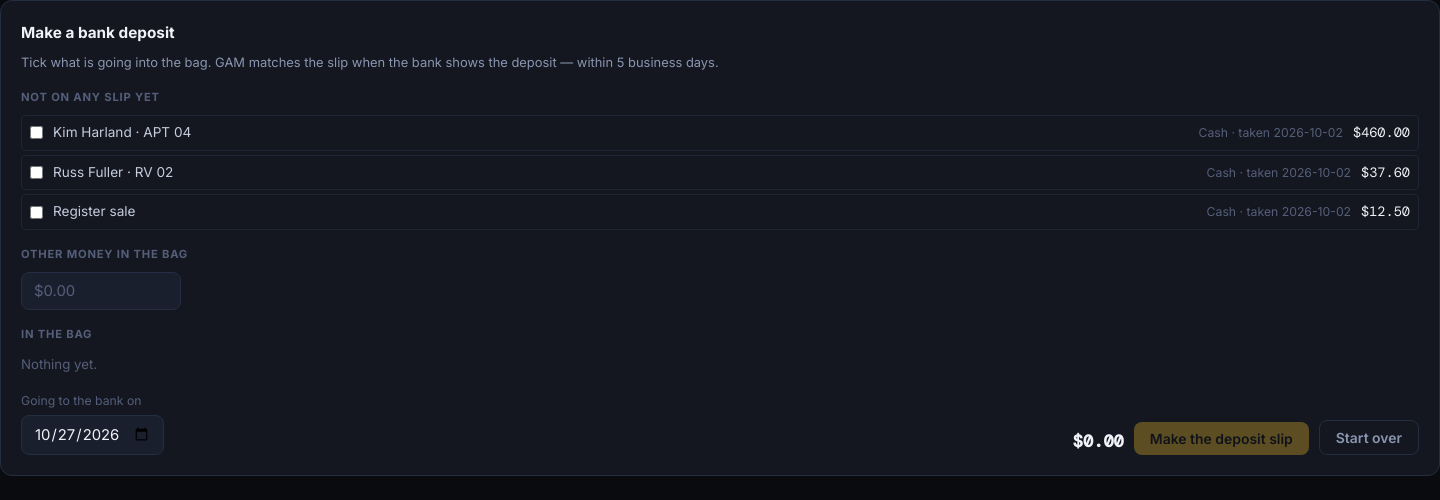
Test: Make a bank deposit › a 409 shows the server’s sentence once and the lists are fetched again in place
Click the checkbox labelled "Kim Harland · APT 04 Cash · taken 2026-10-02 $460.00".
click(36, 133)  # box left=30, top=126, right=43, bottom=139
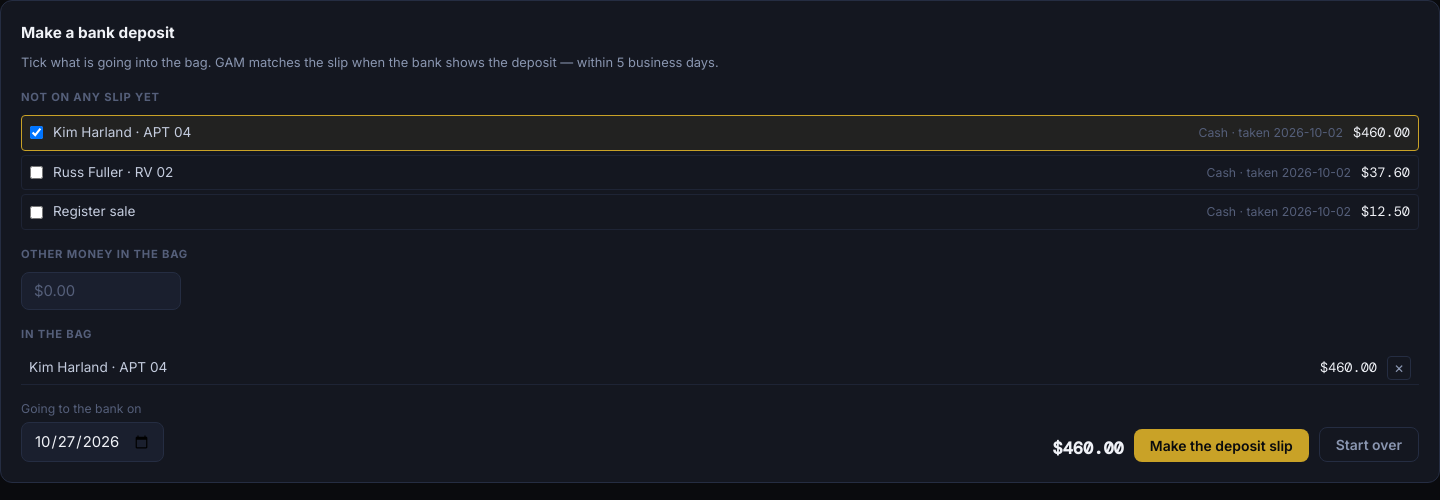
Click the button "Make the deposit slip".
click(1221, 446)  # box left=1134, top=430, right=1309, bottom=462
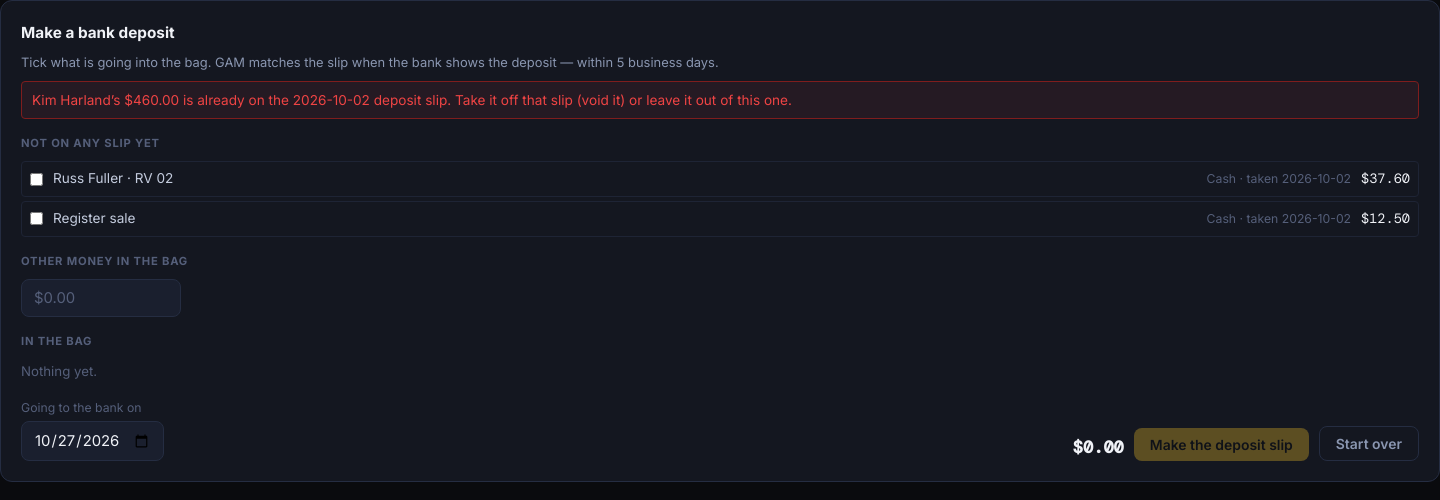
Expected: the number of messages is 1, left=21, top=81, right=1419, bottom=119
